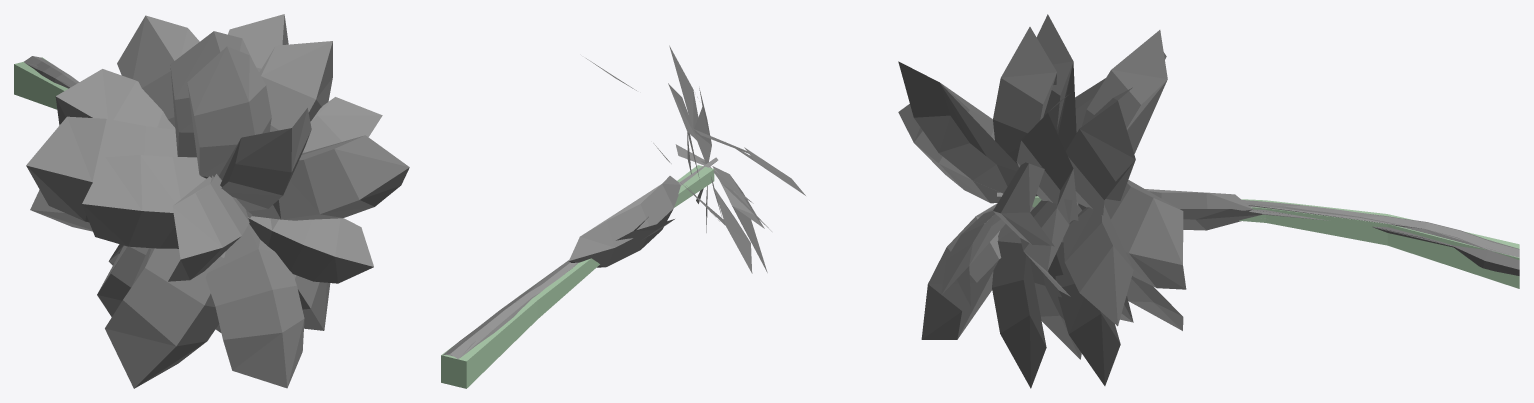
The model's file is trop_Palm03.glb.
The picture shows the model from 3 angles, left to right: view 1: azimuth 30°, elevation 25°; view 2: azimuth 150°, elevation 25°; view 3: azimuth 270°, elevation 25°; orthographic projection. The views are drawn at different scales.
Parts seen in each view (by area): view 1: geometry_0; view 2: geometry_0; view 3: geometry_0.
Part boxes in pixels (<box>): geometry_0: <box>14,14,409,388</box>; geometry_0: <box>441,45,805,388</box>; geometry_0: <box>898,14,1519,388</box>.
Bounding box in the file's own units: 17.87 × 18.08 × 30.
